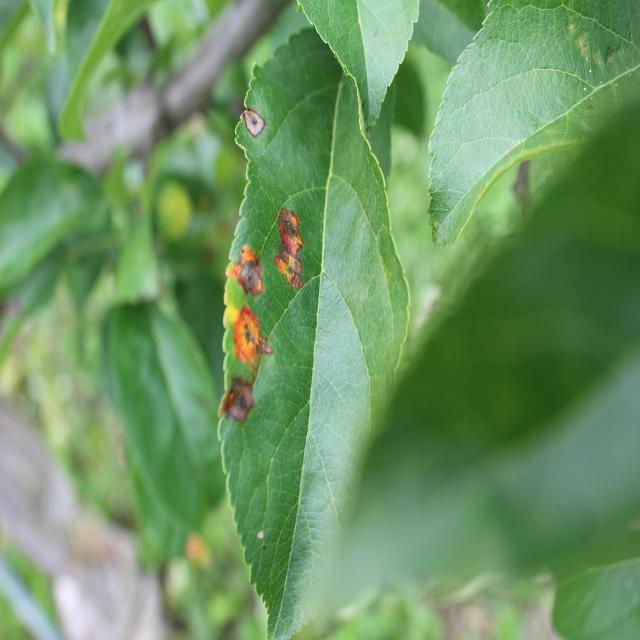rust: (216, 28, 411, 638)
